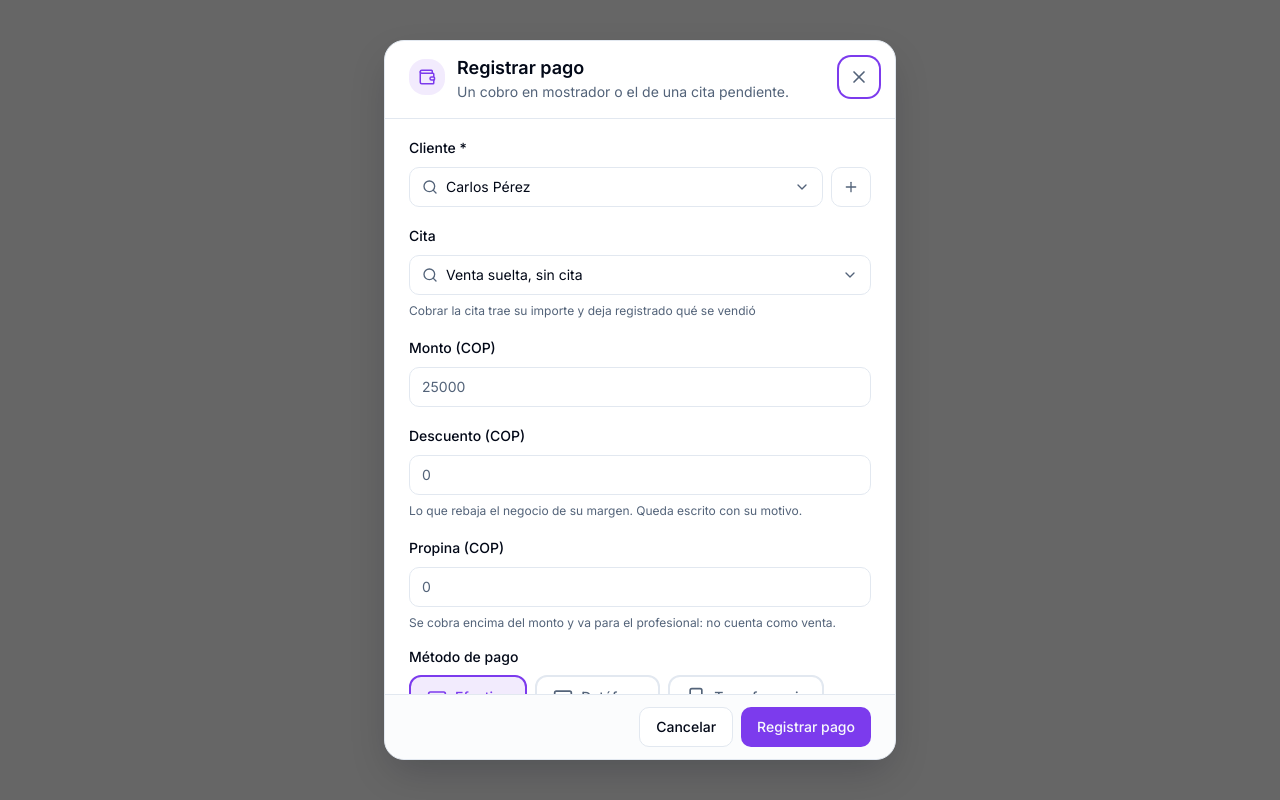
Test case: CreatePaymentDialog › ofrece las citas atendidas del cliente con su servicio e importe
# Las opciones viven en la lista del selector, que se despliega al pulsar.
Click the button labelled "Venta suelta, sin cita".
click(514, 274)  # box [409,254,871,294]
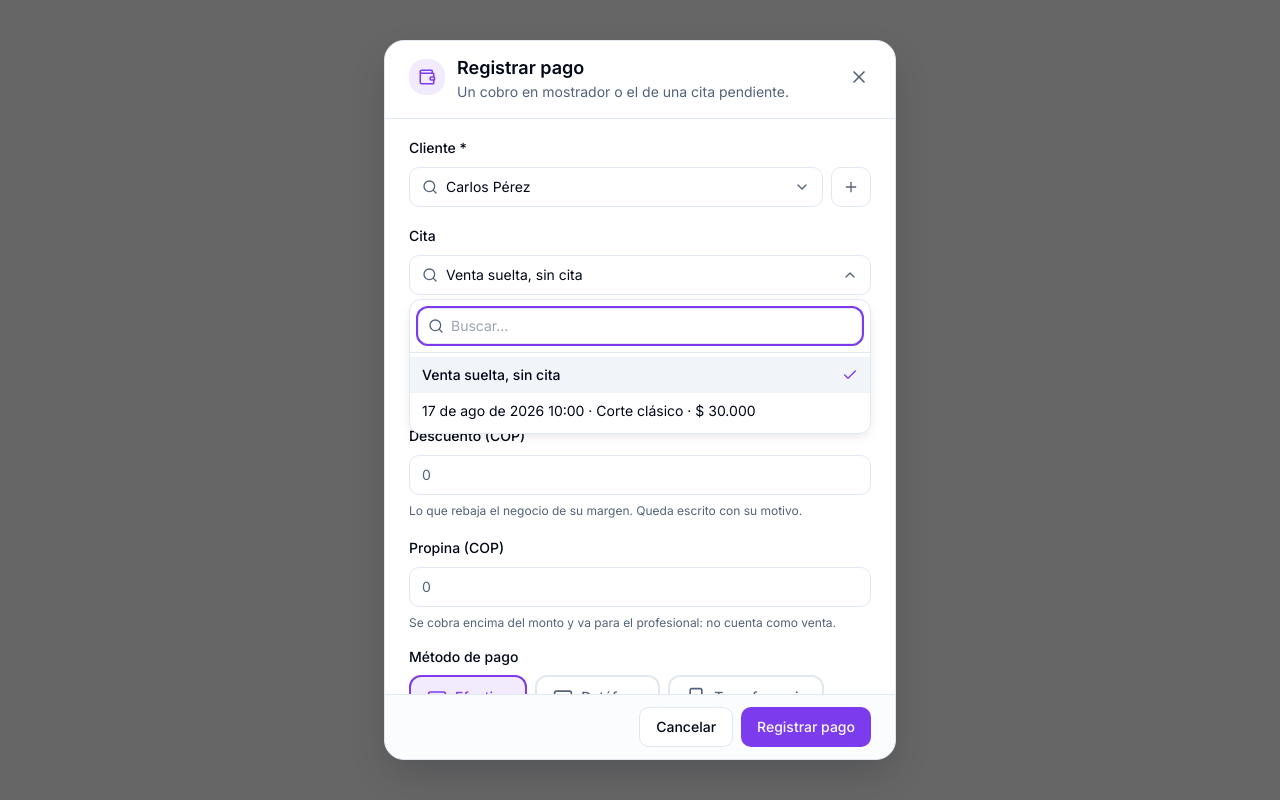
Expected: the option "17 de ago de 2026 10:00 · Corte clásico · $ 30.000" is shown, [410,392,870,428]
